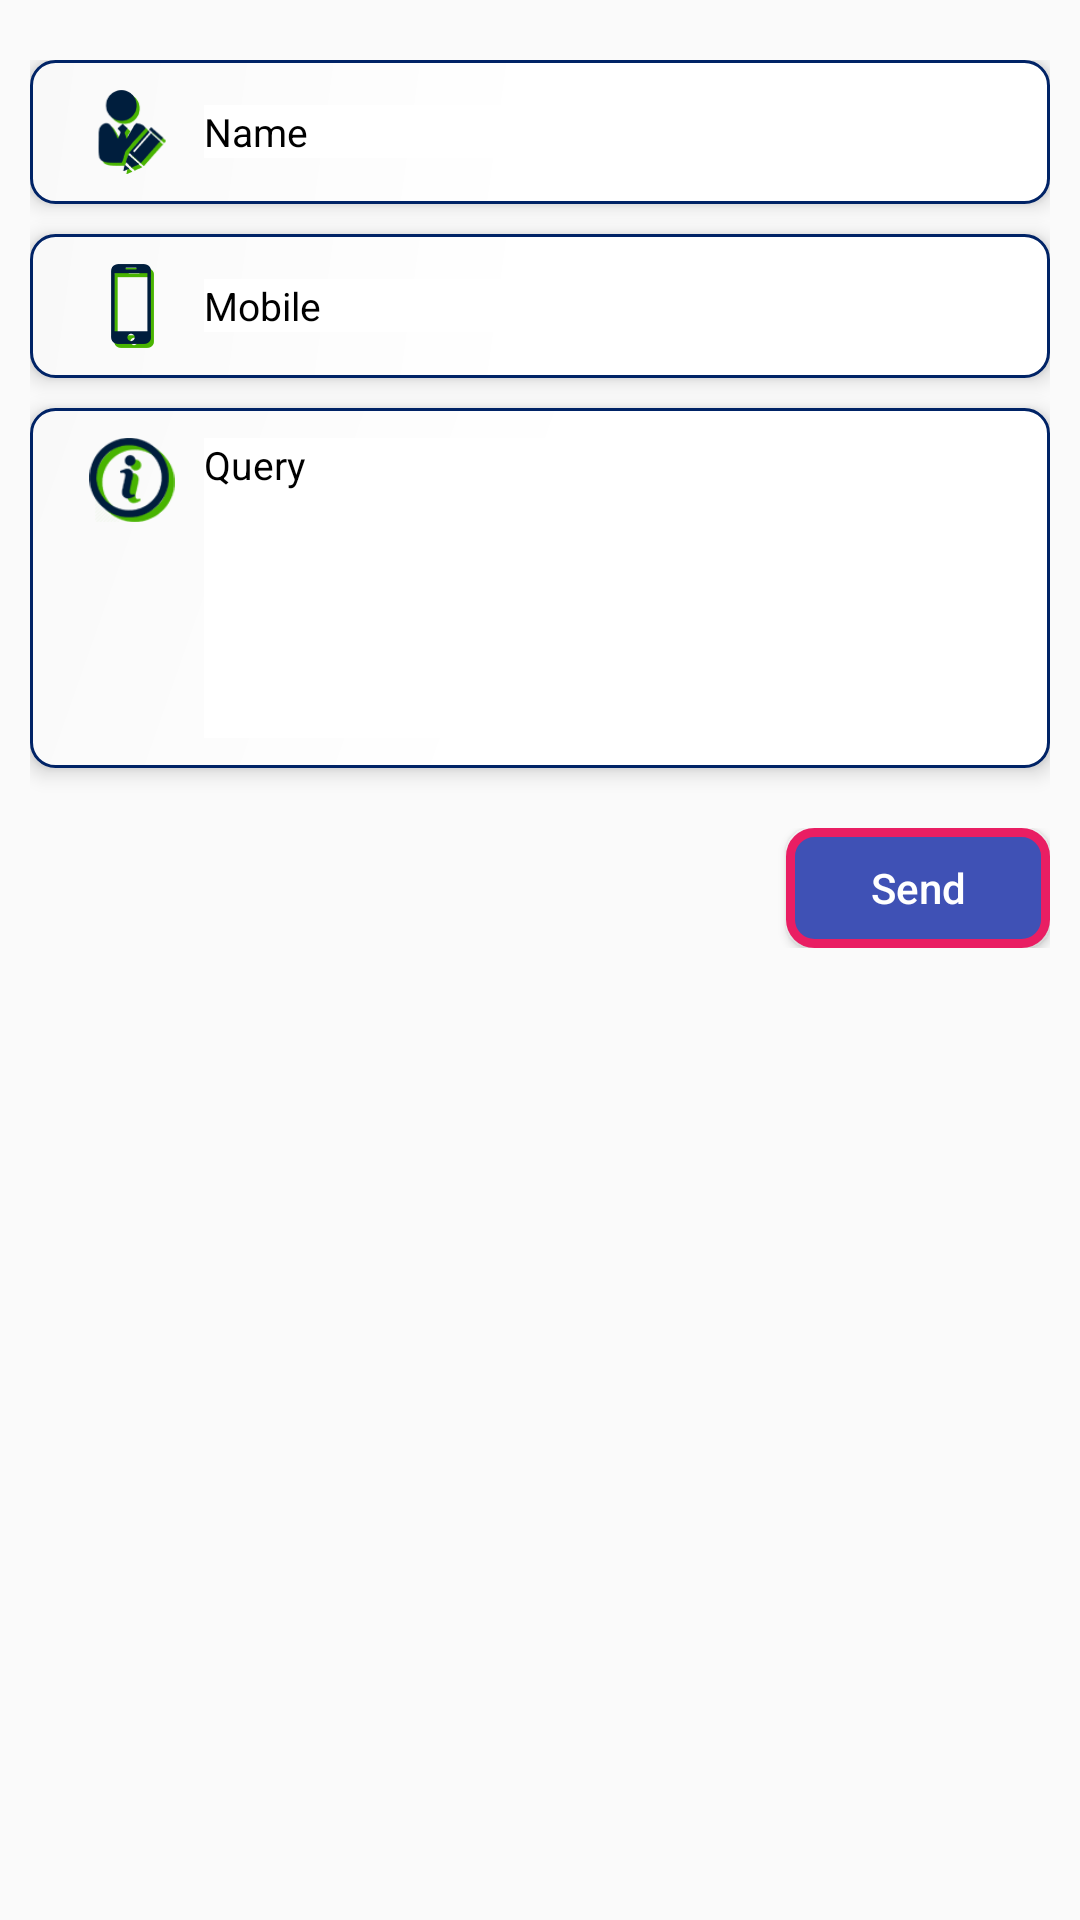

Icon click points for this 1080x1920 phone screenshot, format point (x, y):
about: point (132, 480)
